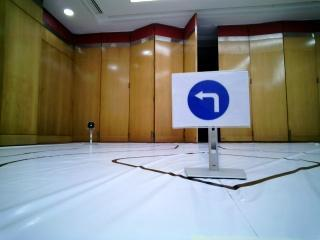left: (173, 74, 245, 127)
